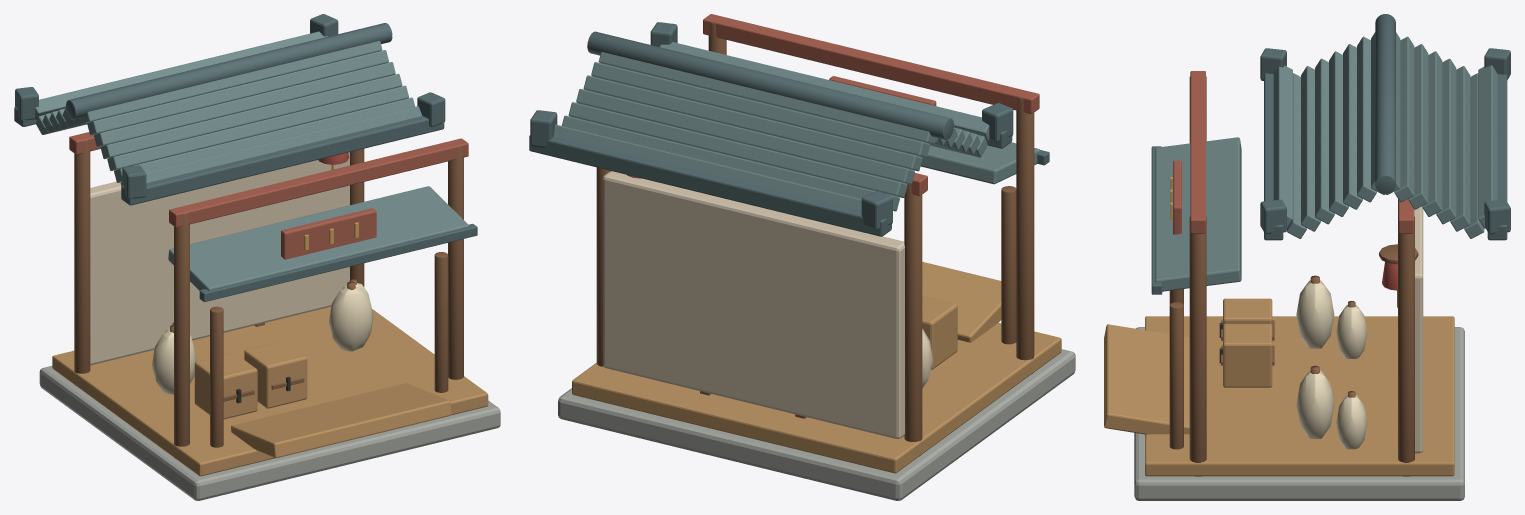
File: building_warehouse_open.glb
3 renders of one model, left to right at view 1: azimuth 30°, elevation 25°; view 2: azimuth 150°, elevation 25°; view 3: azimuth 270°, elevation 25°, orthographic. The views are drawn at different scales.
Parts seen in each view (by area): view 1: WarehouseRearWall, RaisedFloor.003, Foundation.003, VerandaCanopy.003, LoadingRamp, TopBeam.006, EaveBeam.006, RoofRidge.003, TimberPost.013, TimberPost.012, TimberPost.014, VerandaGutter.003 (+11 smaller); view 2: WarehouseRearWall, RaisedFloor.003, Foundation.003, TopBeam.006, EaveBeam.007, RoofRidge.003, TimberPost.012, TimberPost.013, LoadingRamp, VerandaCanopy.003, VerandaPost.006, Crate.002 (+5 smaller); view 3: RaisedFloor.003, Foundation.003, VerandaCanopy.003, LoadingRamp, TimberPost.014, TimberPost.015, RoofRidge.003, Crate.003, TopBeam.006, VerandaPost.007, WarehouseRearWall, GrainSack (+13 smaller).
Part boxes in pixels (bbox=[...]): WarehouseRearWall: bbox=[90, 152, 349, 365]; RaisedFloor.003: bbox=[52, 307, 488, 476]; Foundation.003: bbox=[39, 366, 500, 500]; VerandaCanopy.003: bbox=[168, 186, 469, 290]; LoadingRamp: bbox=[231, 383, 451, 458]; TopBeam.006: bbox=[169, 138, 468, 227]; EaveBeam.006: bbox=[121, 116, 444, 205]; RoofRidge.003: bbox=[66, 23, 392, 119]; TimberPost.013: bbox=[74, 140, 90, 373]; TimberPost.012: bbox=[174, 213, 189, 458]; TimberPost.014: bbox=[448, 146, 463, 379]; VerandaGutter.003: bbox=[199, 223, 477, 301]; WarehouseRearWall: bbox=[603, 171, 904, 438]; RaisedFloor.003: bbox=[572, 322, 1061, 473]; Foundation.003: bbox=[558, 349, 1075, 500]; TopBeam.006: bbox=[703, 14, 1039, 113]; EaveBeam.007: bbox=[529, 135, 891, 236]; RoofRidge.003: bbox=[587, 31, 953, 139]; TimberPost.012: bbox=[1016, 98, 1034, 360]; TimberPost.013: bbox=[904, 184, 922, 455]; LoadingRamp: bbox=[922, 262, 1001, 342]; VerandaCanopy.003: bbox=[920, 142, 1040, 184]; VerandaPost.006: bbox=[1001, 186, 1016, 344]; Crate.002: bbox=[922, 296, 957, 369]; RaisedFloor.003: bbox=[1145, 316, 1454, 476]; Foundation.003: bbox=[1134, 327, 1464, 500]; VerandaCanopy.003: bbox=[1155, 137, 1241, 291]; LoadingRamp: bbox=[1104, 324, 1189, 434]; TimberPost.014: bbox=[1189, 216, 1206, 476]; TimberPost.015: bbox=[1398, 216, 1414, 476]; RoofRidge.003: bbox=[1375, 14, 1395, 193]; Crate.003: bbox=[1223, 324, 1272, 387]; TopBeam.006: bbox=[1190, 71, 1205, 233]; VerandaPost.007: bbox=[1169, 302, 1183, 449]; WarehouseRearWall: bbox=[1414, 206, 1423, 453]; GrainSack: bbox=[1296, 280, 1334, 348].
Size of the model in its own units: 2.94 by 2.8 by 3.13.
